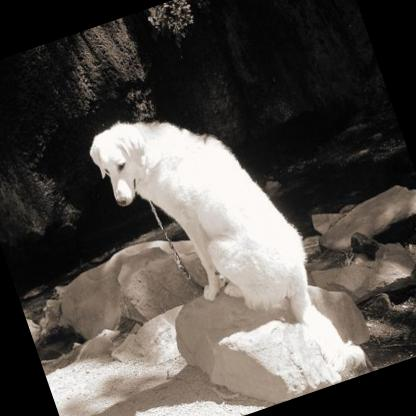kuvasz: (78, 67, 367, 416)
